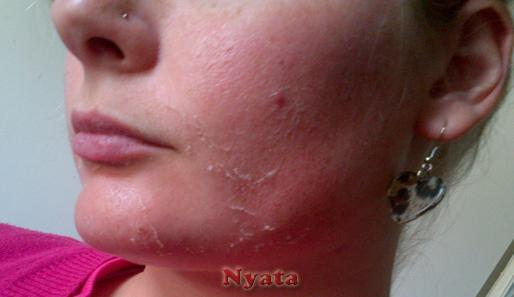Dry-Skin: (211, 156, 286, 196), (231, 205, 288, 254), (115, 215, 171, 251)
